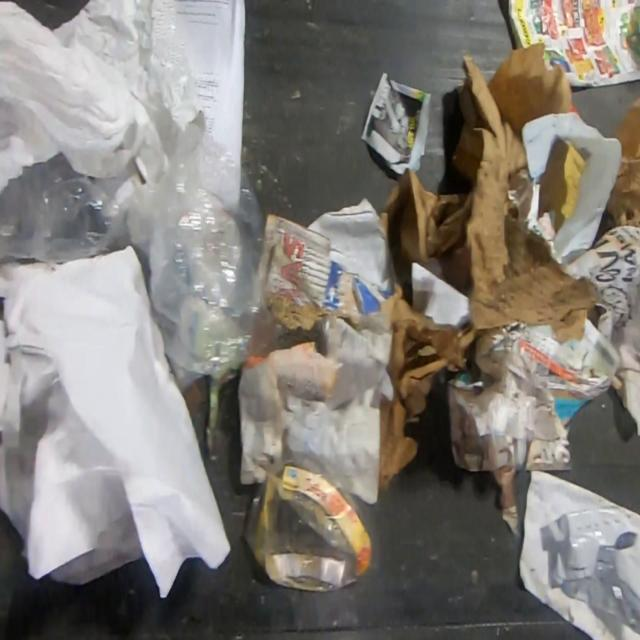cardboard: (379, 39, 604, 382), (235, 196, 478, 505), (558, 224, 640, 435), (506, 0, 640, 88), (606, 95, 640, 227)
soft_plastic: (0, 122, 288, 394), (0, 0, 206, 196), (241, 463, 374, 592), (540, 506, 639, 637)
